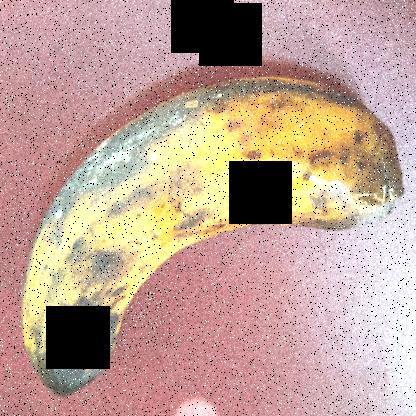rotten: (13, 73, 416, 397)
